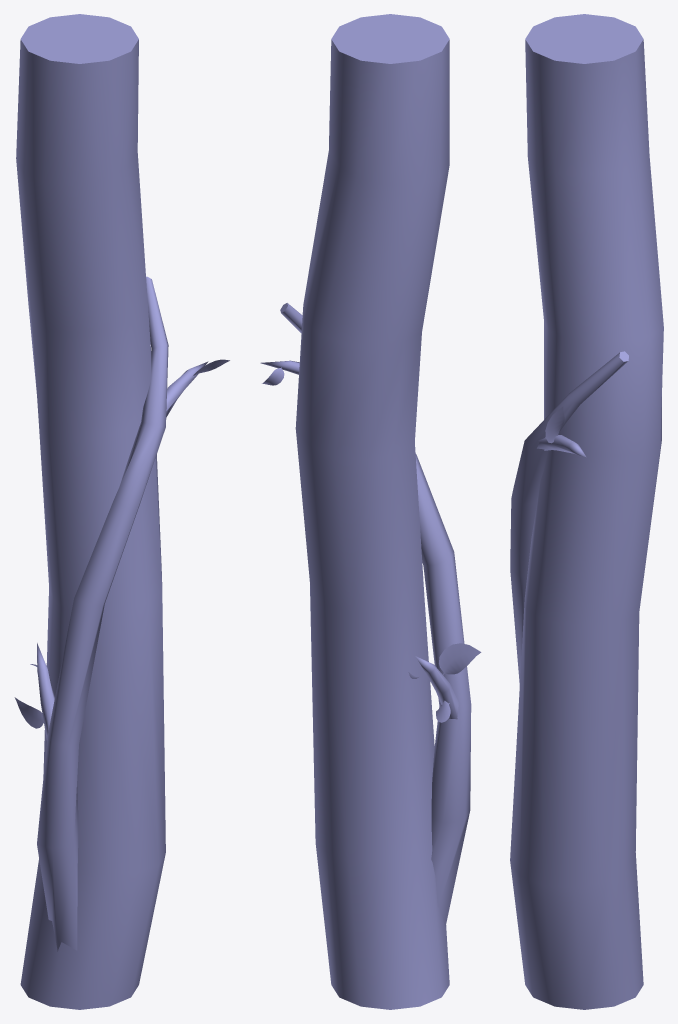
The model's file is PBW_W1_Pillar.glb.
3 renders of one model, left to right at view 1: azimuth 30°, elevation 25°; view 2: azimuth 150°, elevation 25°; view 3: azimuth 270°, elevation 25°, orthographic.
Parts seen in each view (by area): view 1: PBW_W1_Pillar; view 2: PBW_W1_Pillar; view 3: PBW_W1_Pillar.
Boxes of the visible parts, bbox=[...] form: PBW_W1_Pillar: bbox=[14, 14, 229, 1009]; PBW_W1_Pillar: bbox=[260, 14, 481, 1009]; PBW_W1_Pillar: bbox=[510, 14, 663, 1009].
Bounding box in the file's own units: 0.8658 × 3.84 × 0.5662.
